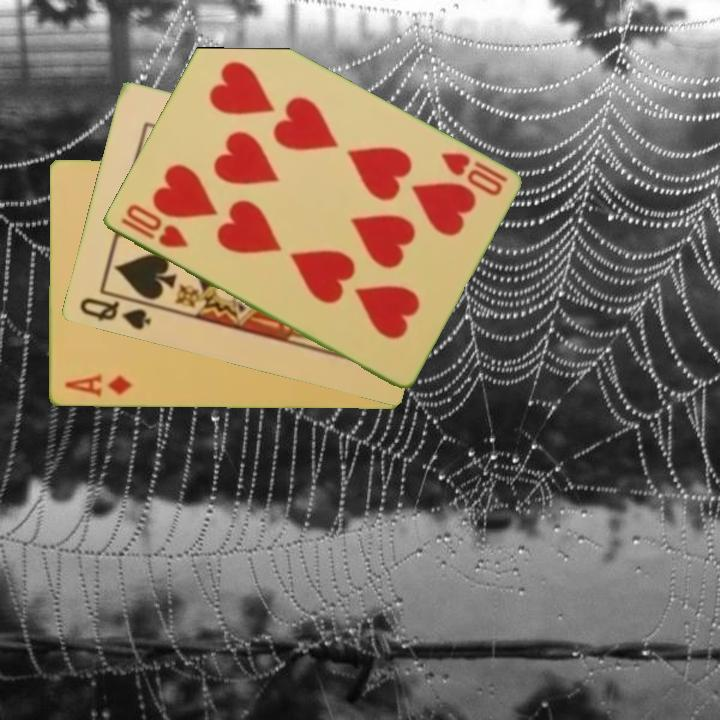10h: (117, 201, 190, 252), (437, 149, 510, 200)
Ad: (61, 370, 135, 400)
Qs: (75, 294, 154, 333)
